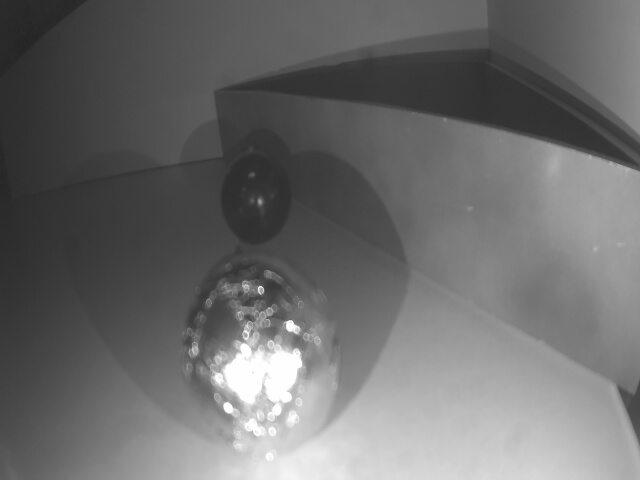Dead: (223, 157, 296, 243)
Green: (213, 90, 640, 388)
Live: (170, 254, 351, 468)
